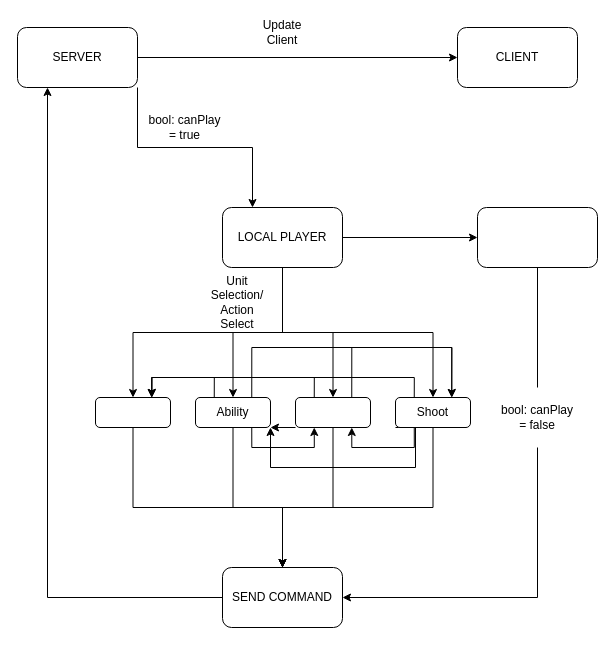
Image size: 615x645. Some labels were removed from this diagram. The box of each missing label's shape, as (x1, y1, x2, y2) in pixels:
End Turn Button: (476, 206, 598, 268)
Move: (294, 396, 370, 428)
Overwatch: (94, 396, 170, 428)
